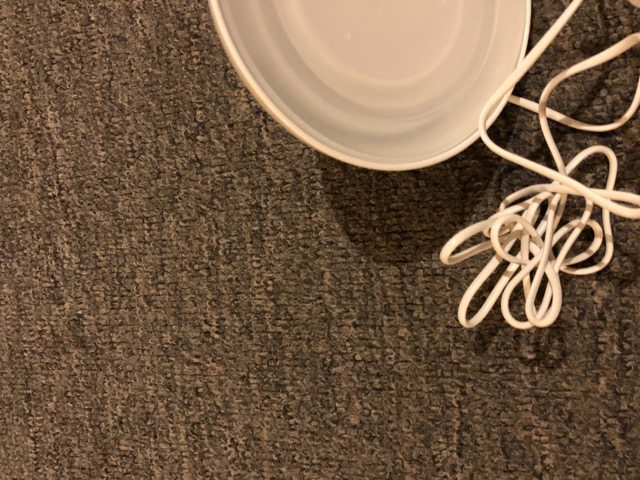light: (211, 1, 532, 199)
